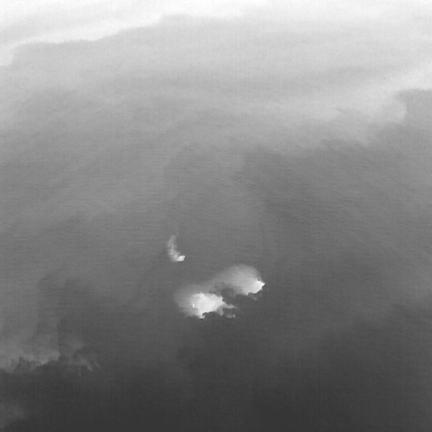flukeprints: (189, 292, 233, 317), (244, 278, 264, 294)
